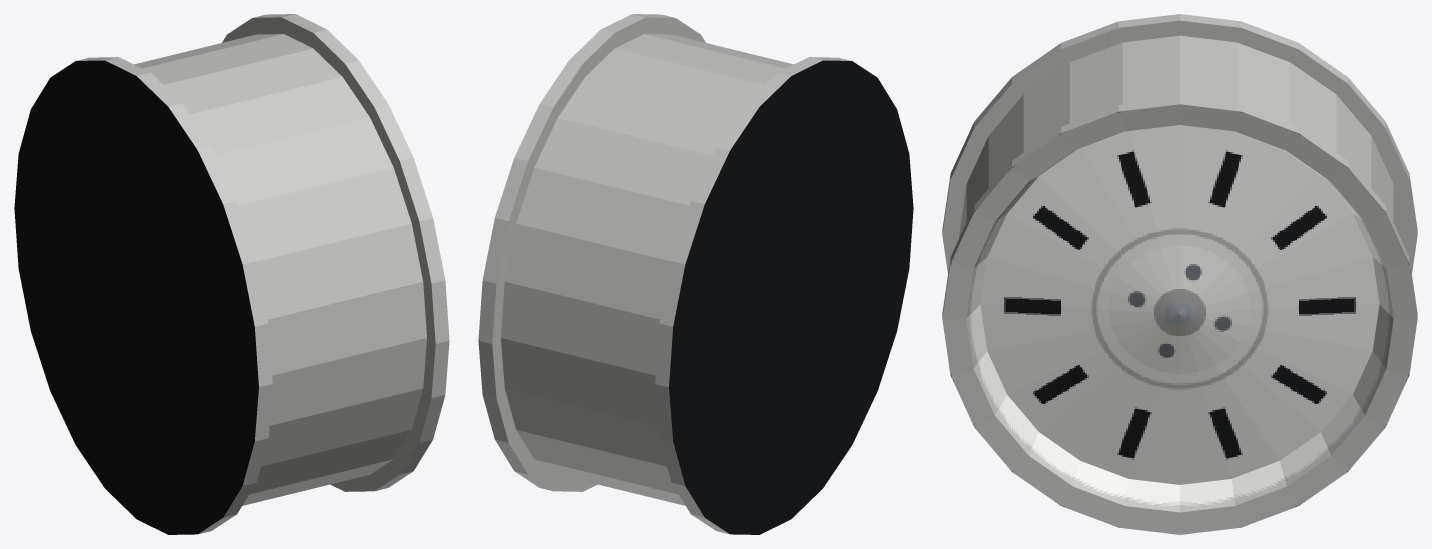
File: bigorna_ventilada_15.glb
The picture shows the model from 3 angles, left to right: view 1: azimuth 30°, elevation 25°; view 2: azimuth 150°, elevation 25°; view 3: azimuth 270°, elevation 25°; orthographic projection. The views are drawn at different scales.
Parts seen in each view (by area): view 1: bigorna_ventilada_15; view 2: bigorna_ventilada_15; view 3: bigorna_ventilada_15.
Boxes of the visible parts, x1,y1,x2,y2 form: bigorna_ventilada_15: (14, 14, 449, 534); bigorna_ventilada_15: (478, 14, 913, 534); bigorna_ventilada_15: (942, 14, 1417, 534).
Bounding box in the file's own units: 0.192 × 0.4267 × 0.4267.
Materials: 1 (1 with a texture image).
